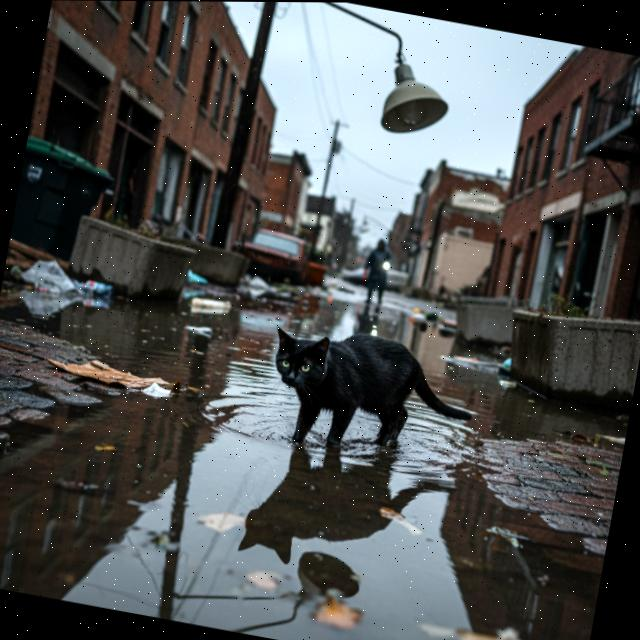cat: (240, 306, 493, 486)
civilian: (351, 229, 402, 320)
